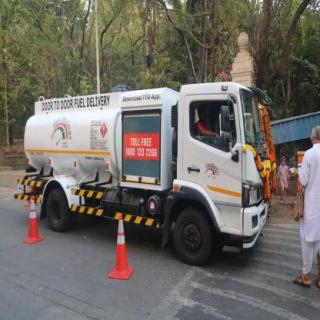Normal_vehicle: (19, 76, 285, 269)
